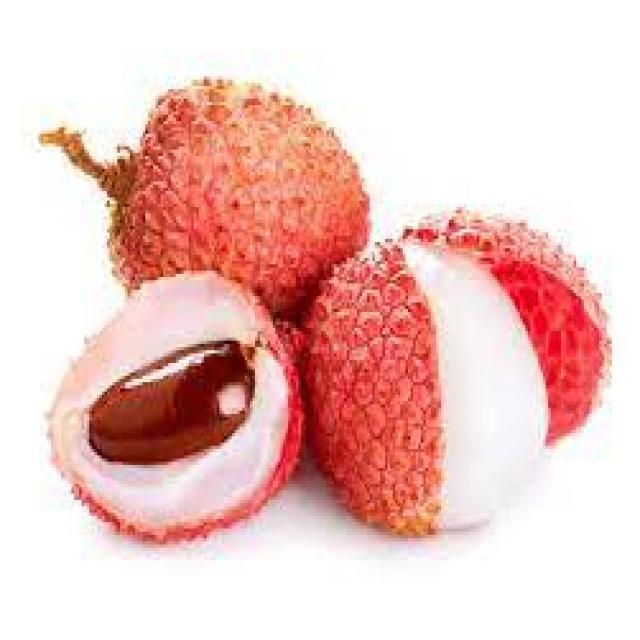lychee: (42, 73, 618, 556)
